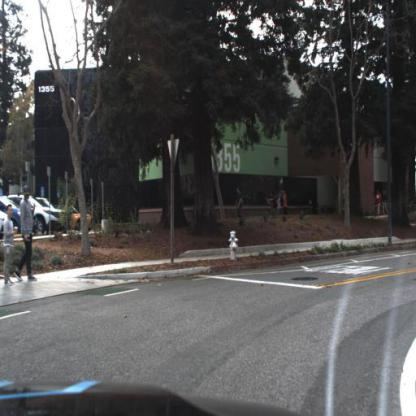car: (25, 194, 65, 235), (55, 200, 94, 233)
pedestrian: (14, 186, 39, 284), (1, 203, 19, 288), (235, 183, 248, 224), (234, 185, 248, 218), (372, 189, 384, 220), (281, 188, 293, 215), (382, 188, 390, 219)
